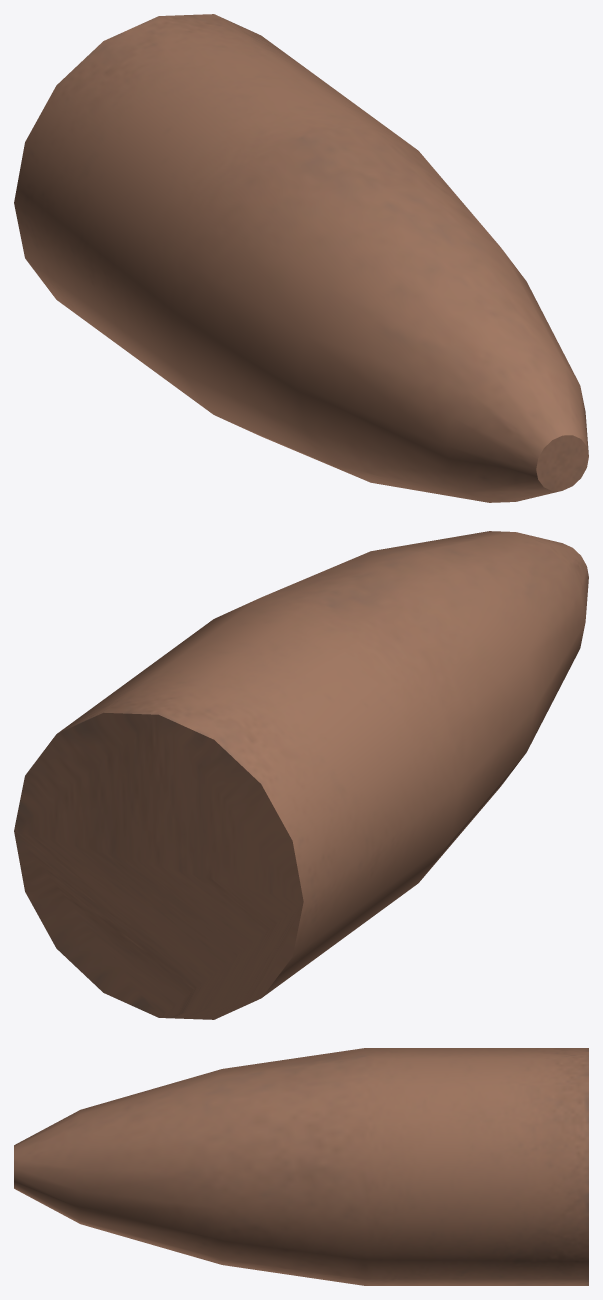
The model's file is 556_Bullet.FBX.
3 views of the same model, one above another, from view 1: azimuth 30°, elevation 25°; view 2: azimuth 150°, elevation 25°; view 3: azimuth 270°, elevation 25° (orthographic). The views are drawn at different scales.
Visible parts, largest first — view 1: BLT_556; view 2: BLT_556; view 3: BLT_556.
Boxes of the visible parts, box(x1,y1,x2,y2) form: BLT_556: box(14, 14, 588, 502); BLT_556: box(14, 531, 588, 1019); BLT_556: box(14, 1048, 588, 1285).
Size of the model in its own units: 0.6027 by 0.6027 by 1.46.
